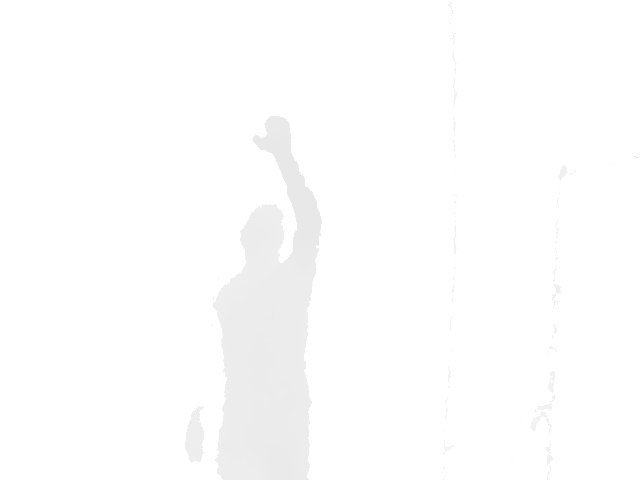hand: (253, 113, 295, 153)
head: (240, 204, 285, 271)
person: (182, 114, 323, 480)
